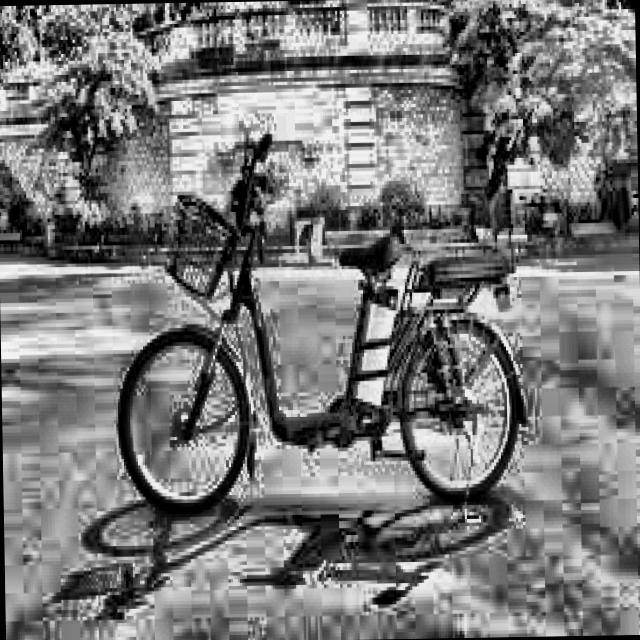bicycle: (108, 125, 528, 533)
